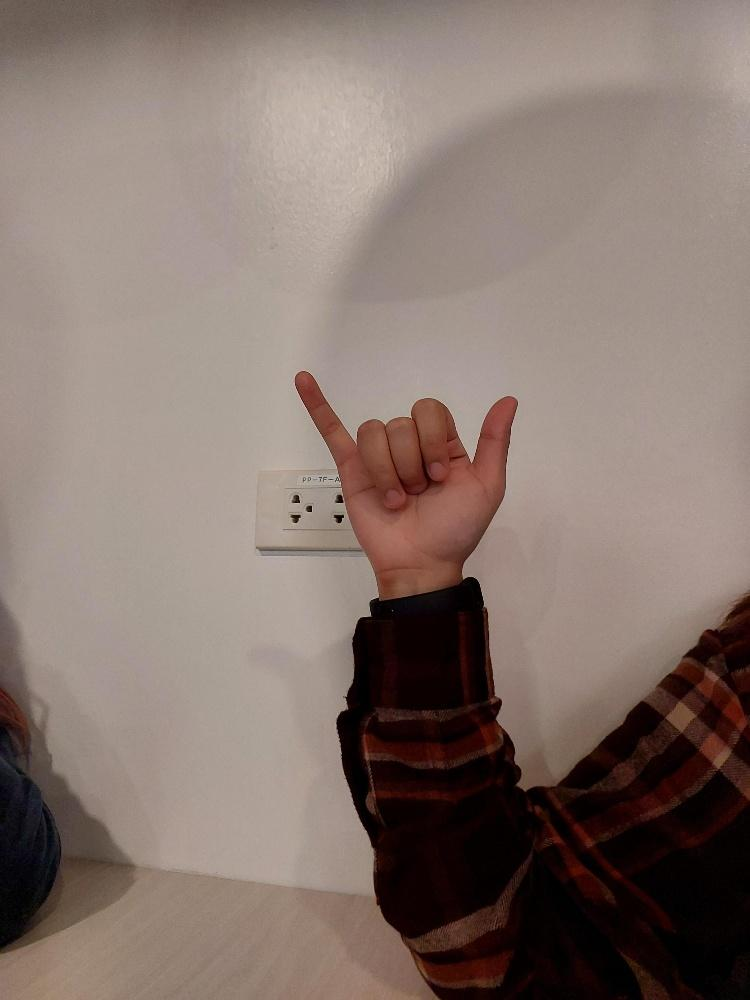y: (289, 365, 519, 590)
